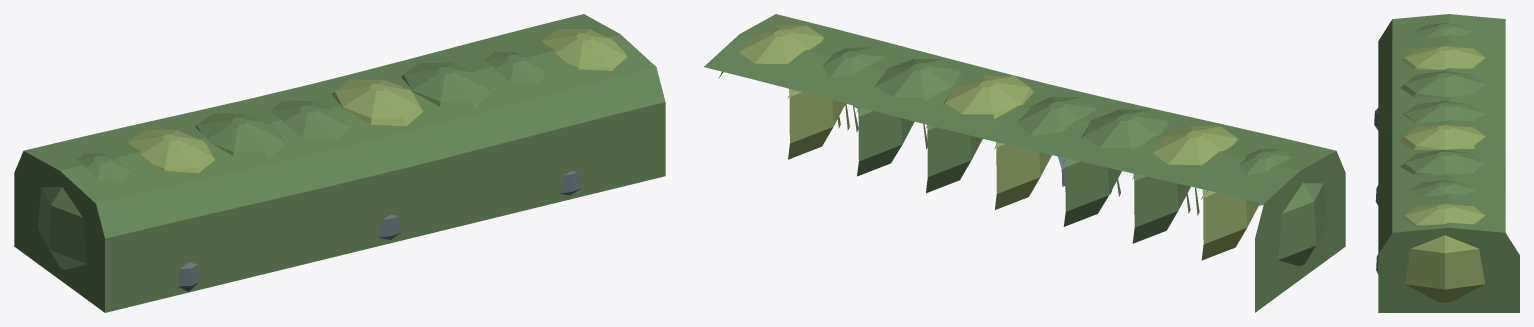
The model's file is edge_shrub_band.glb.
The picture shows the model from 3 angles, left to right: view 1: azimuth 30°, elevation 25°; view 2: azimuth 150°, elevation 25°; view 3: azimuth 270°, elevation 25°; orthographic projection. The views are drawn at different scales.
Parts seen in each view (by area): view 1: Leaf_Mesh, LeafLight_Mesh, Rock_Mesh; view 2: Leaf_Mesh, LeafLight_Mesh; view 3: Leaf_Mesh, LeafLight_Mesh, Rock_Mesh.
Part boxes in pixels (x1=…): Leaf_Mesh: x1=14, y1=14, x2=665, y2=312; LeafLight_Mesh: x1=127, y1=29, x2=627, y2=173; Rock_Mesh: x1=178, y1=171, x2=582, y2=291; Leaf_Mesh: x1=704, y1=14, x2=1345, y2=312; LeafLight_Mesh: x1=718, y1=25, x2=1259, y2=260; Leaf_Mesh: x1=1378, y1=14, x2=1519, y2=312; LeafLight_Mesh: x1=1399, y1=45, x2=1485, y2=302; Rock_Mesh: x1=1374, y1=108, x2=1378, y2=274.
Size of the model in its own units: 5.24 by 1 by 1.44.
